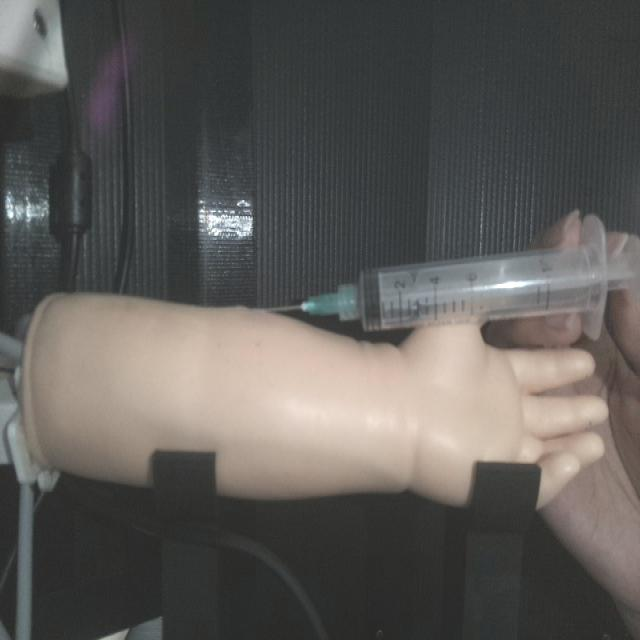Below 15 degrees: (258, 213, 637, 339)
